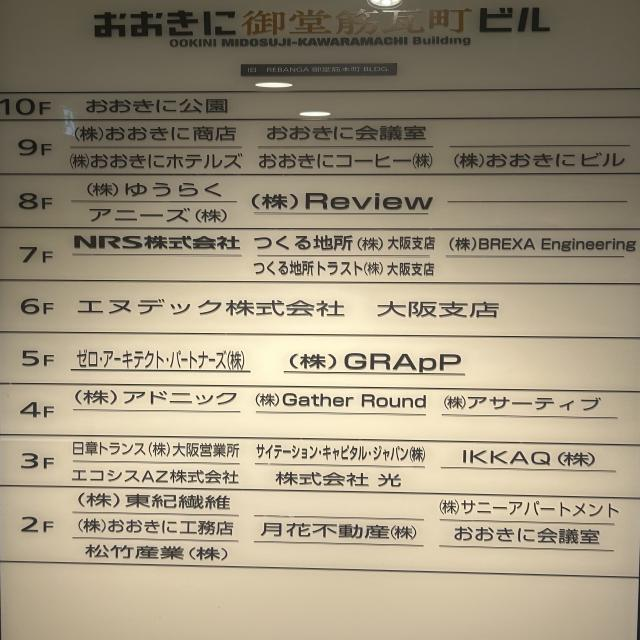building: (71, 9, 573, 50)
facility: (76, 292, 352, 322), (284, 347, 472, 373), (248, 188, 442, 213), (433, 497, 626, 521), (366, 294, 515, 324), (71, 123, 251, 147), (72, 346, 251, 369), (443, 233, 638, 254), (253, 441, 431, 464), (256, 150, 440, 172), (249, 389, 432, 411), (452, 150, 638, 171), (69, 387, 244, 409), (440, 525, 607, 548), (77, 93, 230, 118), (72, 489, 238, 512), (254, 519, 420, 542), (263, 123, 443, 144), (254, 233, 442, 253), (71, 150, 249, 171), (69, 439, 245, 460), (245, 260, 446, 278), (74, 231, 246, 252), (80, 178, 243, 200), (78, 541, 233, 564), (71, 516, 240, 537), (437, 392, 606, 413), (80, 205, 242, 226), (449, 447, 602, 469), (67, 467, 244, 486), (268, 468, 411, 490)
floor: (9, 288, 69, 330), (12, 232, 66, 278), (6, 131, 59, 170), (12, 507, 62, 548), (9, 182, 62, 220), (9, 343, 64, 378), (9, 394, 64, 428), (9, 447, 65, 479), (0, 96, 47, 117)
